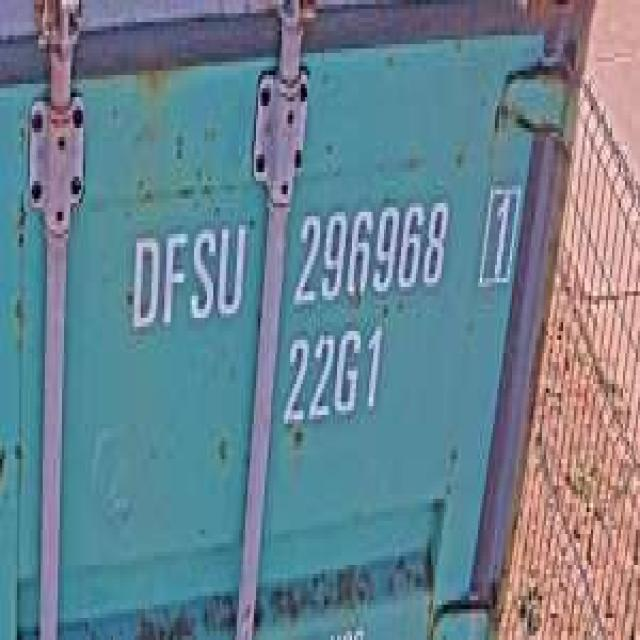dv: (477, 175, 524, 299)
owner: (121, 212, 248, 335)
serial: (288, 185, 452, 309)
size: (277, 313, 386, 437)
